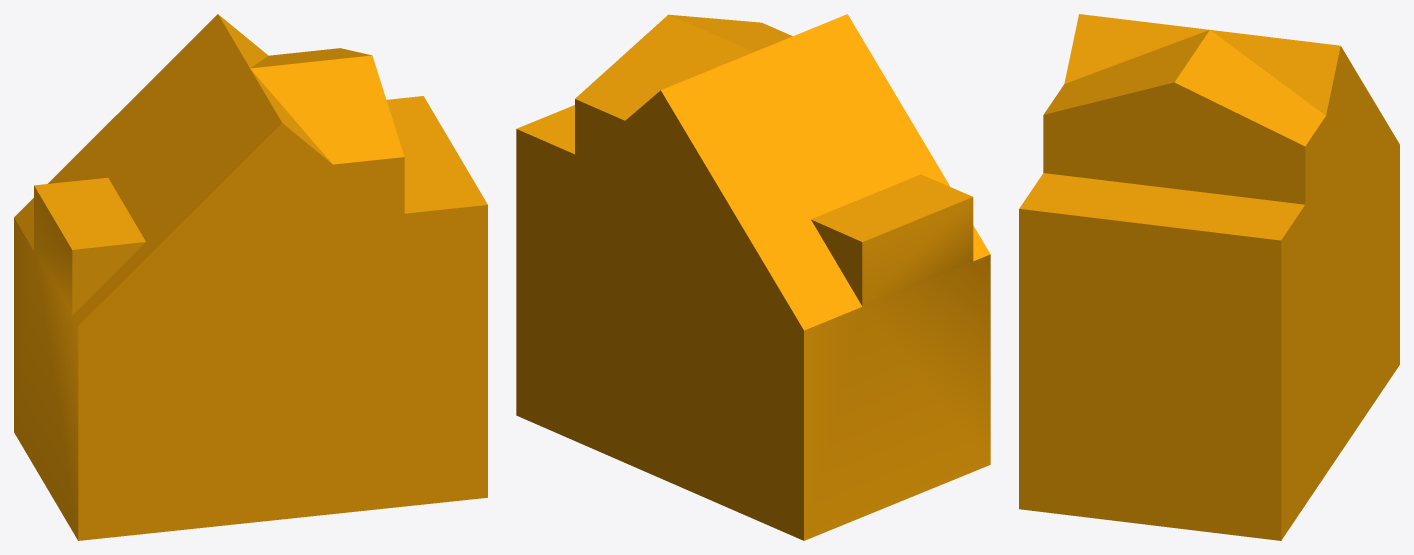
File: DEHB01ALj0003A5f.gltf
The picture shows the model from 3 angles, left to right: view 1: azimuth 30°, elevation 25°; view 2: azimuth 150°, elevation 25°; view 3: azimuth 270°, elevation 25°; orthographic projection. The views are drawn at different scales.
Visible parts, largest first — view 1: Z_UP; view 2: Z_UP; view 3: Z_UP.
Boxes of the visible parts, <box> form: Z_UP: <box>14,14,487,540</box>; Z_UP: <box>516,14,990,540</box>; Z_UP: <box>1019,14,1399,540</box>.
Bounding box in the file's own units: 10.89 × 9.94 × 8.43.
